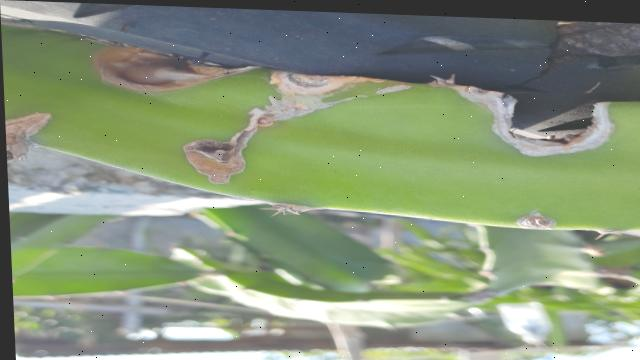stemcanker: (249, 69, 373, 131), (175, 114, 262, 190), (511, 206, 562, 234)
